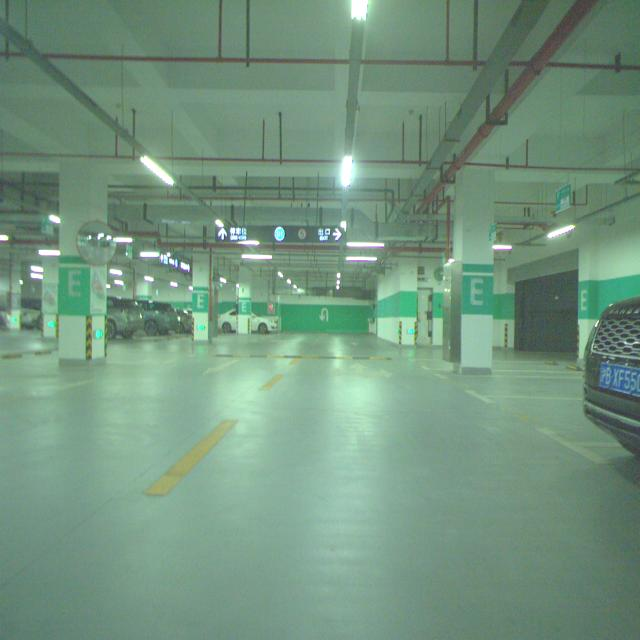pillar: (58, 161, 108, 361), (454, 170, 494, 373)
